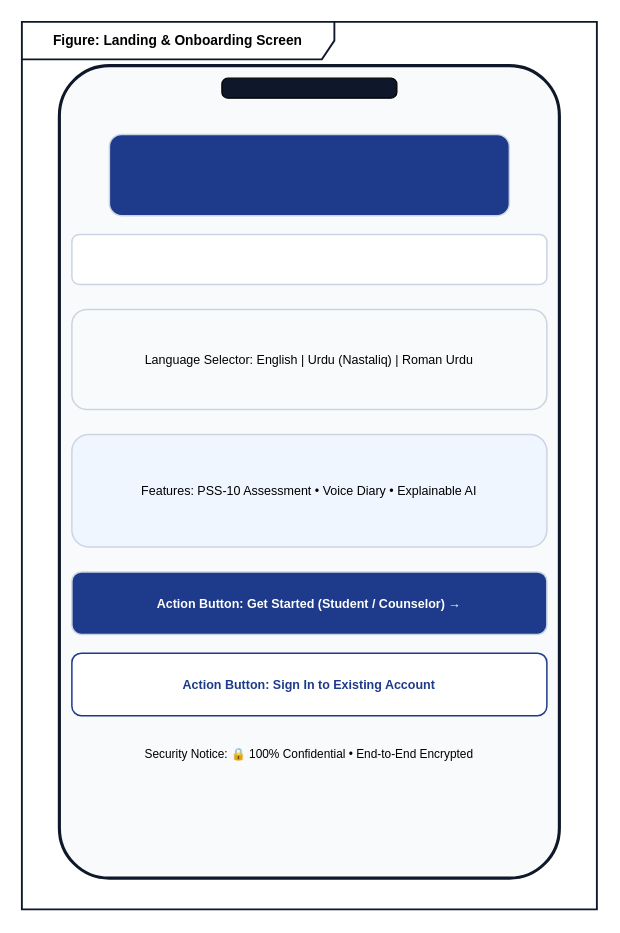
The diagram is 620 pixels wide and 933 high, and some of its shapes have lost their labels. Here are the shapes that lost their labels. From the top down, the centre of each, then its label:
At point 309,174: "MindEase Brand Emblem (Neural Lotus & Pulse)".
At point 308,258: "Title: MindEase AI Stress Detection & Academic Support".
